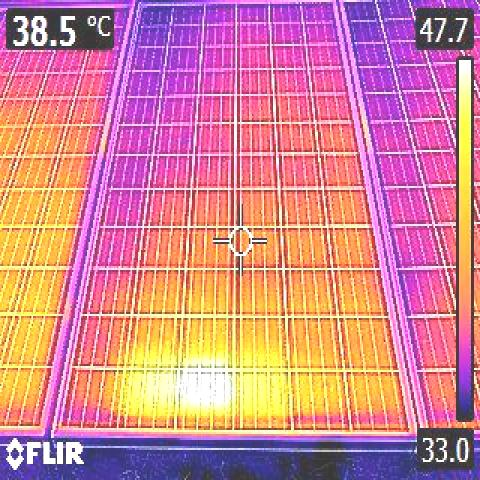fault: (185, 364, 231, 422)
